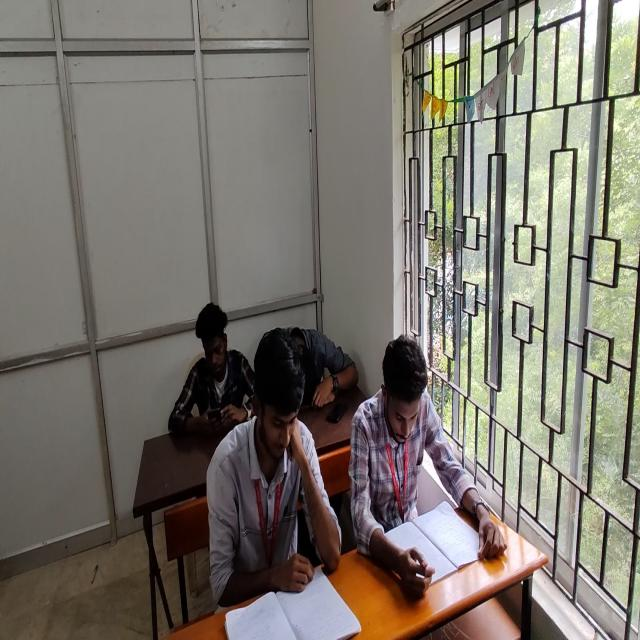reading: (206, 324, 342, 616), (370, 333, 496, 589)
sleeping: (267, 326, 355, 410)
using_mobile: (168, 301, 255, 435)
